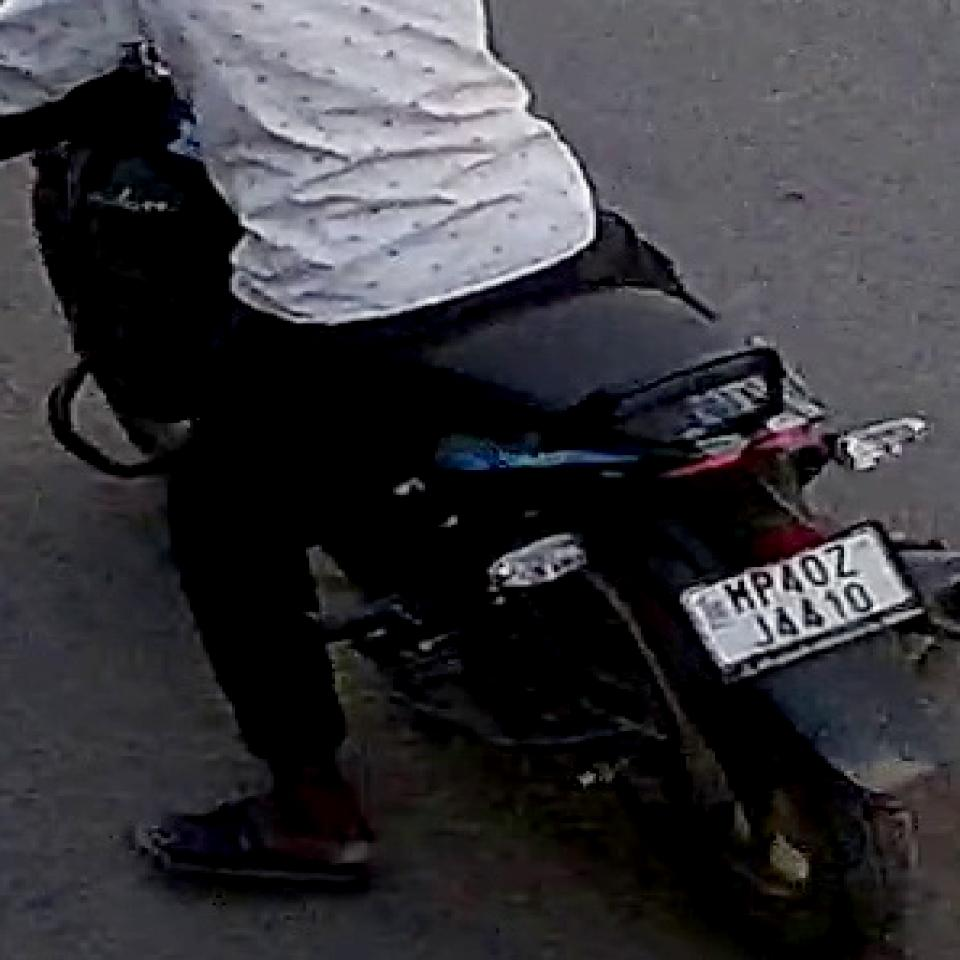tail_light: (668, 410, 816, 508)
